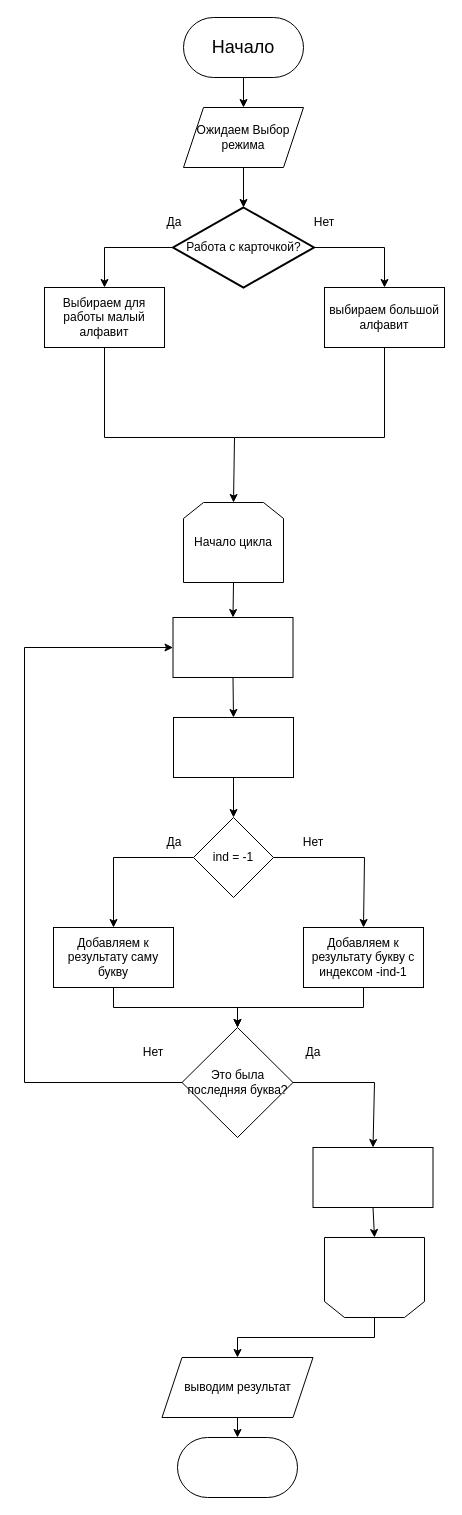
The diagram is 462 pixels wide and 1515 high, and some of its shapes have lost their labels. Each missing label, with the centre of its shape:
Берём i букву текста: the point at 232,647
Возвращаем результат: the point at 372,1177
Конец: the point at 237,1467
Конец цикла: the point at 374,1277
Находим индекс буквы в алфавите: the point at 233,747
